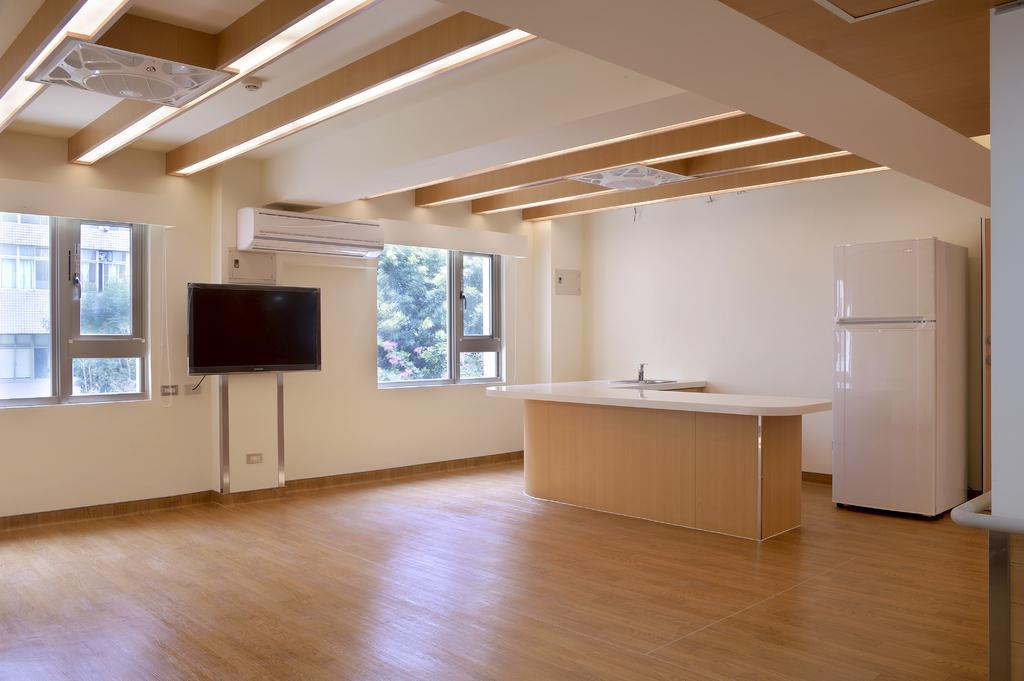handle: (838, 311, 926, 330)
